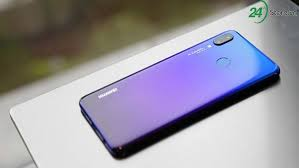huawei: (78, 28, 287, 159)
